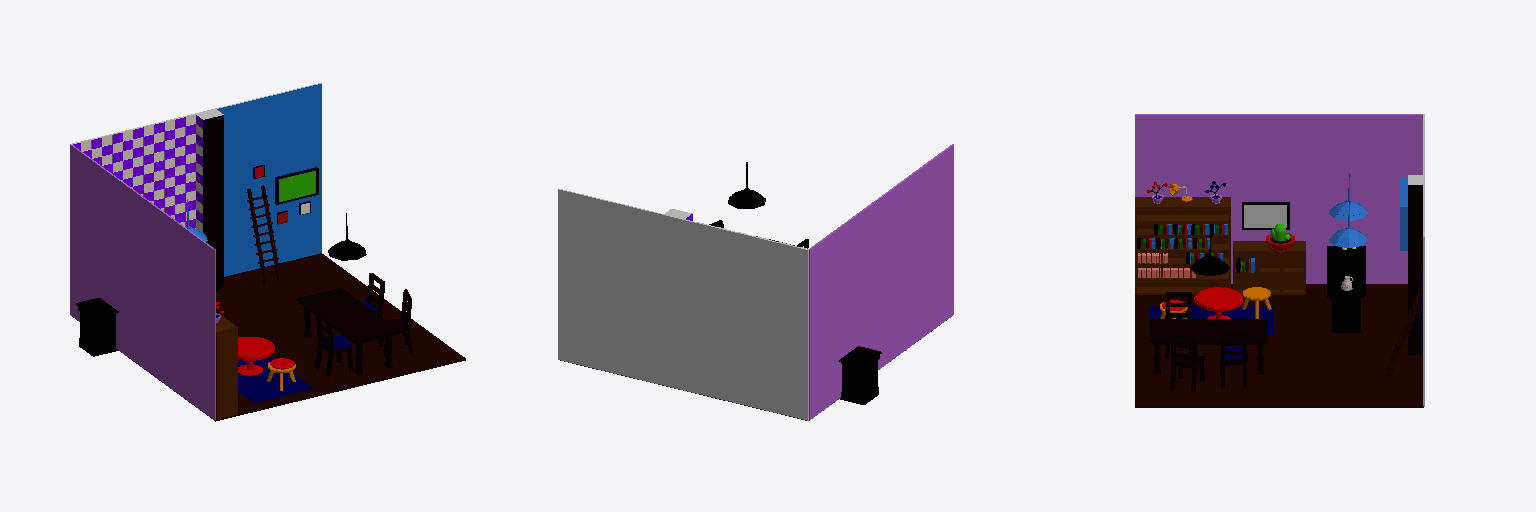
3 renders of one model, left to right at view 1: azimuth 30°, elevation 25°; view 2: azimuth 150°, elevation 25°; view 3: azimuth 270°, elevation 25°, orthographic.
Parts seen in each view (by area): view 1: Cube.002, Cube.001, Cube, Langtisch, Regal, Cube.003, Filmposter, GrosserRahmen, Leiter, Rundtisch, Stuhl.002, Stuhl.001 (+1 smaller); view 2: Cube.002, Cube.001, Cube.003, Deckenlicht.002; view 3: Cube.001, Cube, Regal, KleinesRegal, Langtisch, Cube.003, Cube.002, GrosserRahmen.001, Stuhl.001, Rundtisch, Filmposter, Stuhl (+7 smaller).
Part boxes in pixels (left/top/right/bottom): Cube.002: left=71, top=83, right=321, bottom=284; Cube.001: left=70, top=144, right=215, bottom=420; Cube: left=77, top=253, right=465, bottom=421; Langtisch: left=296, top=288, right=399, bottom=375; Regal: left=216, top=313, right=237, bottom=418; Cube.003: left=76, top=279, right=222, bottom=356; Filmposter: left=238, top=357, right=312, bottom=402; GrosserRahmen: left=275, top=167, right=318, bottom=204; Leiter: left=247, top=185, right=281, bottom=283; Rundtisch: left=238, top=337, right=274, bottom=375; Stuhl.002: left=315, top=312, right=353, bottom=376; Stuhl.001: left=379, top=289, right=412, bottom=356; Cube.002: left=558, top=189, right=808, bottom=420; Cube.001: left=809, top=144, right=953, bottom=420; Cube.003: left=839, top=346, right=881, bottom=404; Deckenlicht.002: left=728, top=162, right=765, bottom=208; Cube.001: left=1135, top=114, right=1422, bottom=283; Cube: left=1135, top=284, right=1423, bottom=407; Regal: left=1135, top=197, right=1230, bottom=294; KleinesRegal: left=1233, top=241, right=1305, bottom=294; Langtisch: left=1150, top=319, right=1267, bottom=374; Cube.003: left=1327, top=246, right=1365, bottom=332; Cube.002: left=1408, top=114, right=1424, bottom=406; GrosserRahmen.001: left=1242, top=202, right=1289, bottom=229; Stuhl.001: left=1170, top=333, right=1204, bottom=392; Rundtisch: left=1194, top=287, right=1242, bottom=318; Filmposter: left=1149, top=306, right=1273, bottom=334; Stuhl: left=1220, top=332, right=1247, bottom=387.
Size of the model in its own units: 6.59 by 3.96 by 6.03.